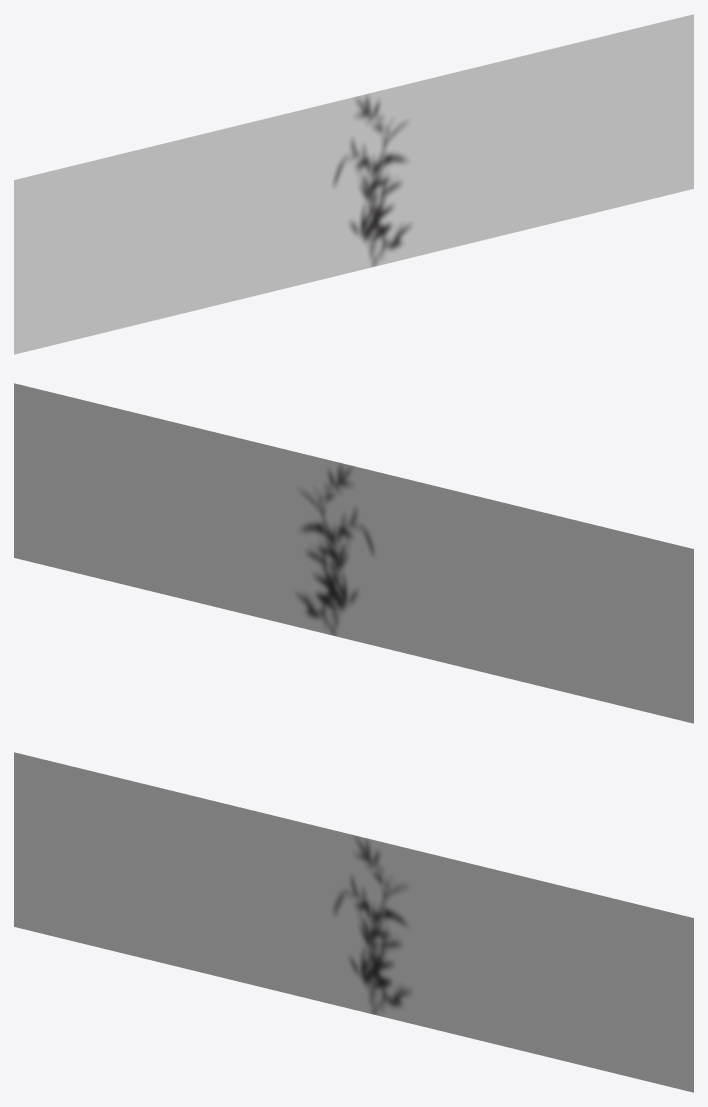
Rendered from Card-2w.fbx.
The picture shows the model from 3 angles, top to bottom: view 1: azimuth 30°, elevation 25°; view 2: azimuth 150°, elevation 25°; view 3: azimuth 330°, elevation 25°; orthographic projection.
Visible parts, largest first — view 1: Plane; view 2: Plane; view 3: Plane.
Boxes of the visible parts, x1,y1,x2,y2 form: Plane: (14,14,693,354); Plane: (14,383,693,723); Plane: (14,752,693,1092).
Size of the model in its own units: 3943 by 968 by 0.000231.
Materials: 1 (1 with a texture image).
